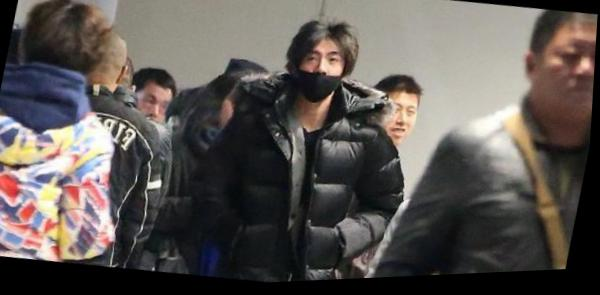NONE: (526, 37, 597, 131), (374, 100, 421, 149), (130, 90, 175, 134)
WRONG: (283, 44, 349, 109)
